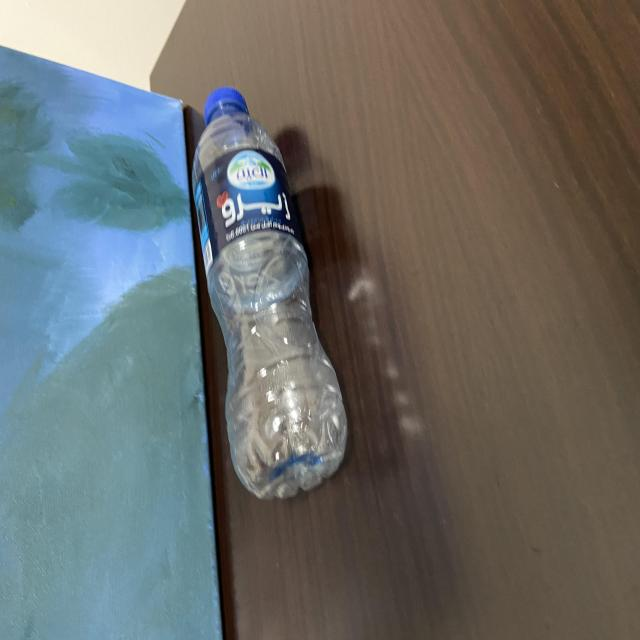bottle: (185, 79, 357, 531)
